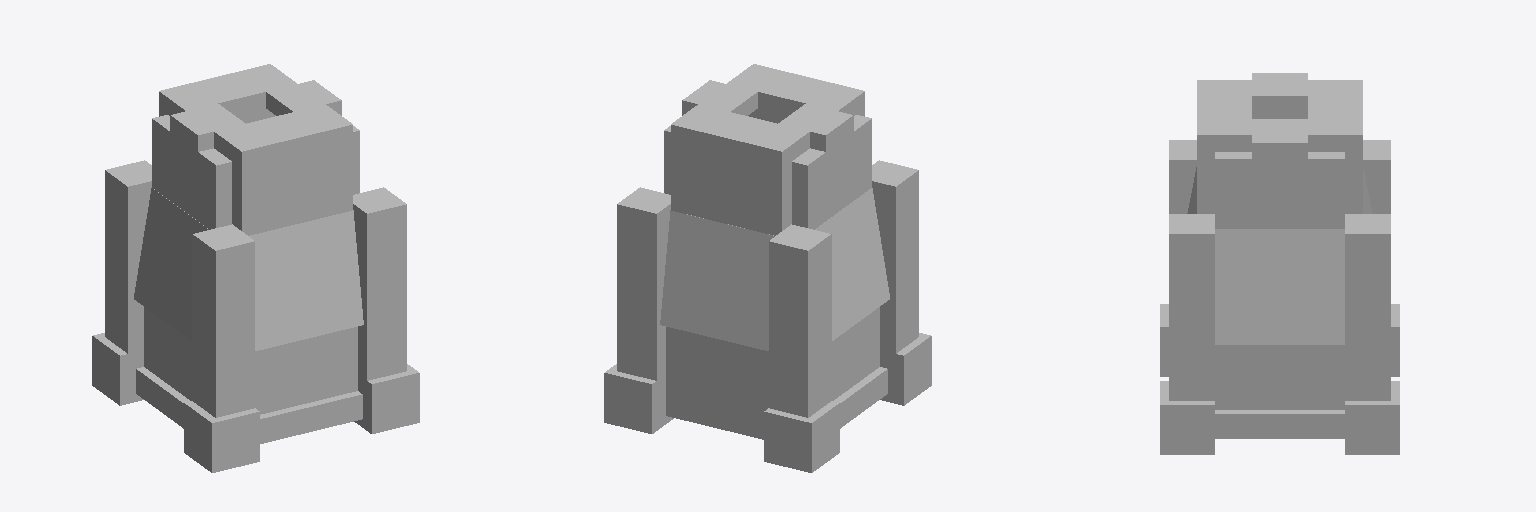
File: crucible.obj
3 renders of one model, left to right at view 1: azimuth 30°, elevation 25°; view 2: azimuth 150°, elevation 25°; view 3: azimuth 270°, elevation 25°, orthographic.
Visible parts, largest first — view 1: wall4, c4p3, bottom, c1p3, top4, c3p3, wall2, top2, cap7, base, c4p1, cap5 (+4 smaller); view 2: wall3, c3p3, bottom, c2p3, top3, c4p3, wall2, top2, cap5, c3p1, base, cap7 (+4 smaller); view 3: wall1, top1, c1p3, c2p3, bottom, cap7, cap5, base, c1p1, c2p1, cap6, cap8 (+6 smaller).
Part boxes in pixels (bbox=[...]): wall4: bbox=[249, 210, 363, 350]; c4p3: bbox=[192, 224, 254, 417]; bottom: bbox=[144, 307, 357, 414]; c1p3: bbox=[353, 187, 406, 380]; top4: bbox=[232, 141, 352, 235]; c3p3: bbox=[105, 160, 151, 353]; wall2: bbox=[134, 188, 208, 340]; top2: bbox=[152, 115, 231, 229]; cap7: bbox=[214, 104, 352, 167]; base: bbox=[136, 367, 362, 443]; c4p1: bbox=[184, 401, 259, 472]; cap5: bbox=[159, 64, 296, 115]; wall3: bbox=[660, 210, 774, 350]; c3p3: bbox=[769, 224, 831, 417]; bottom: bbox=[666, 307, 879, 414]; c2p3: bbox=[617, 187, 670, 380]; top3: bbox=[671, 141, 791, 235]; c4p3: bbox=[872, 160, 918, 353]; wall2: bbox=[815, 188, 889, 340]; top2: bbox=[792, 115, 871, 229]; cap5: bbox=[671, 104, 809, 167]; c3p1: bbox=[764, 401, 839, 472]; base: bbox=[666, 367, 887, 439]; cap7: bbox=[727, 64, 864, 115]; wall1: bbox=[1215, 229, 1344, 344]; top1: bbox=[1215, 152, 1344, 228]; c1p3: bbox=[1169, 214, 1214, 400]; c2p3: bbox=[1345, 214, 1390, 400]; bottom: bbox=[1215, 345, 1344, 409]; cap7: bbox=[1197, 80, 1251, 151]; cap5: bbox=[1308, 80, 1362, 151]; base: bbox=[1215, 410, 1344, 438]; c1p1: bbox=[1160, 381, 1214, 454]; c2p1: bbox=[1345, 381, 1399, 454]; cap6: bbox=[1252, 73, 1307, 112]; cap8: bbox=[1252, 119, 1307, 158].
Size of the model in its own units: 3.25 by 4.44 by 3.25.